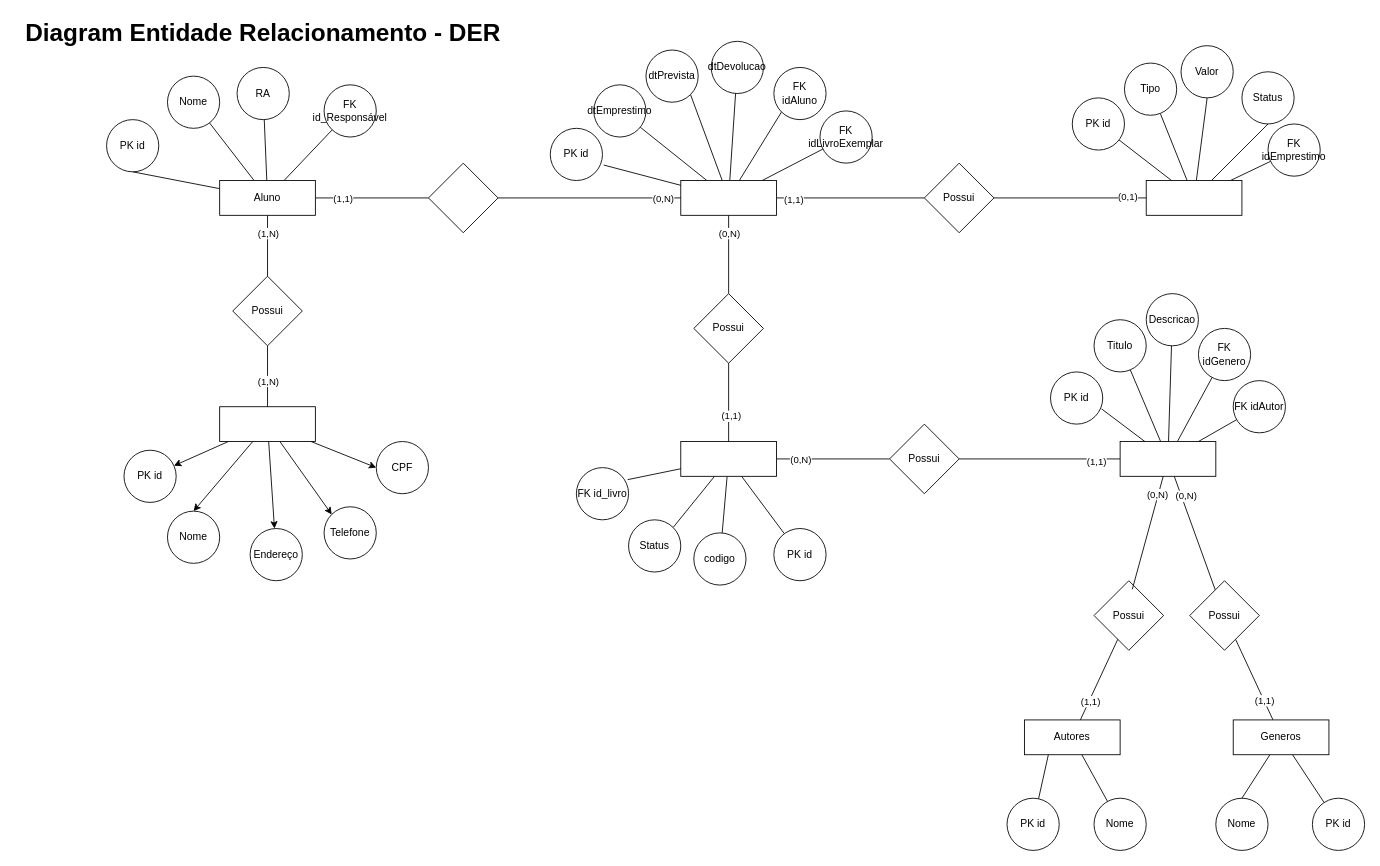
The diagram is 1380 pixels wide and 866 high, and some of its shapes have lost their labels. The shapes that lost their labels are listed below. From the top down, each one's centre as x and y in pixels, then its label:
the point at 463,197: Solicita
the point at 728,197: Empréstimo
the point at 1193,197: Multas
the point at 267,424: Responsáveis
the point at 728,458: Exemplares
the point at 1167,458: Livros
